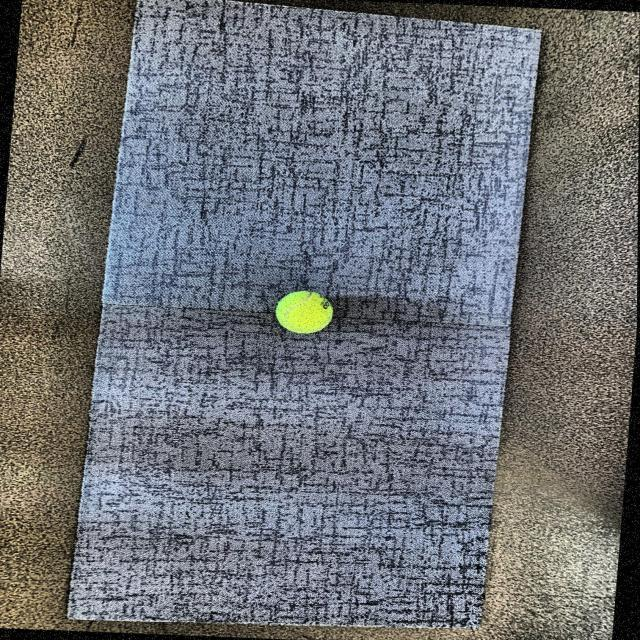tennis-ball: (270, 285, 345, 341)
